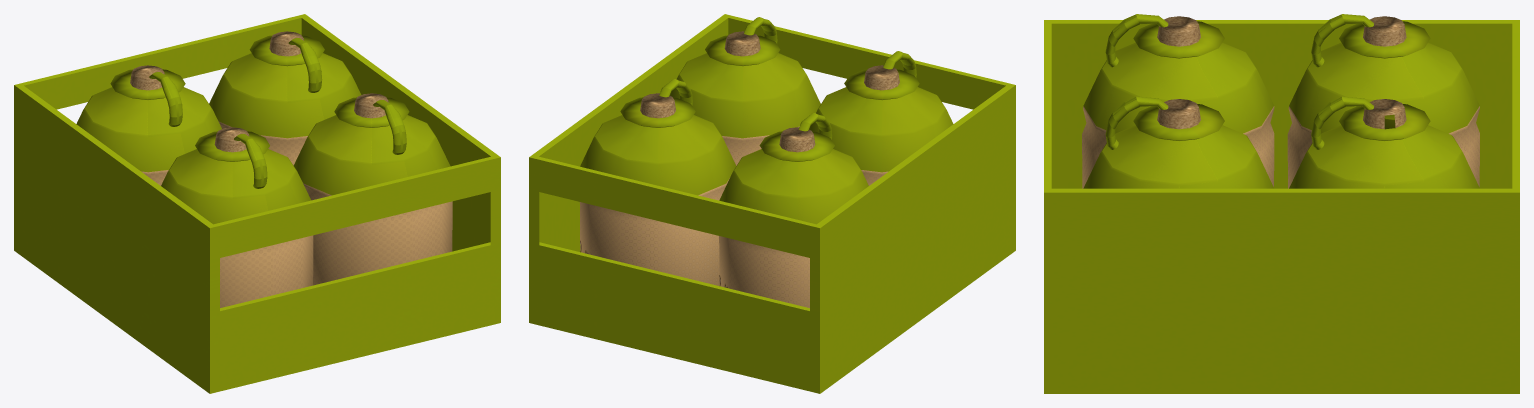
Rendered from MoonshineCaseBox.fbx.
3 renders of one model, left to right at view 1: azimuth 30°, elevation 25°; view 2: azimuth 150°, elevation 25°; view 3: azimuth 270°, elevation 25°, orthographic. The views are drawn at different scales.
Parts seen in each view (by area): view 1: MoonshineCaseBox; view 2: MoonshineCaseBox; view 3: MoonshineCaseBox.
Boxes of the visible parts, x1,y1,x2,y2 form: MoonshineCaseBox: [14, 14, 500, 393]; MoonshineCaseBox: [529, 14, 1015, 393]; MoonshineCaseBox: [1044, 14, 1519, 393].
Size of the model in its own units: 0.2244 by 0.1534 by 0.2615.
